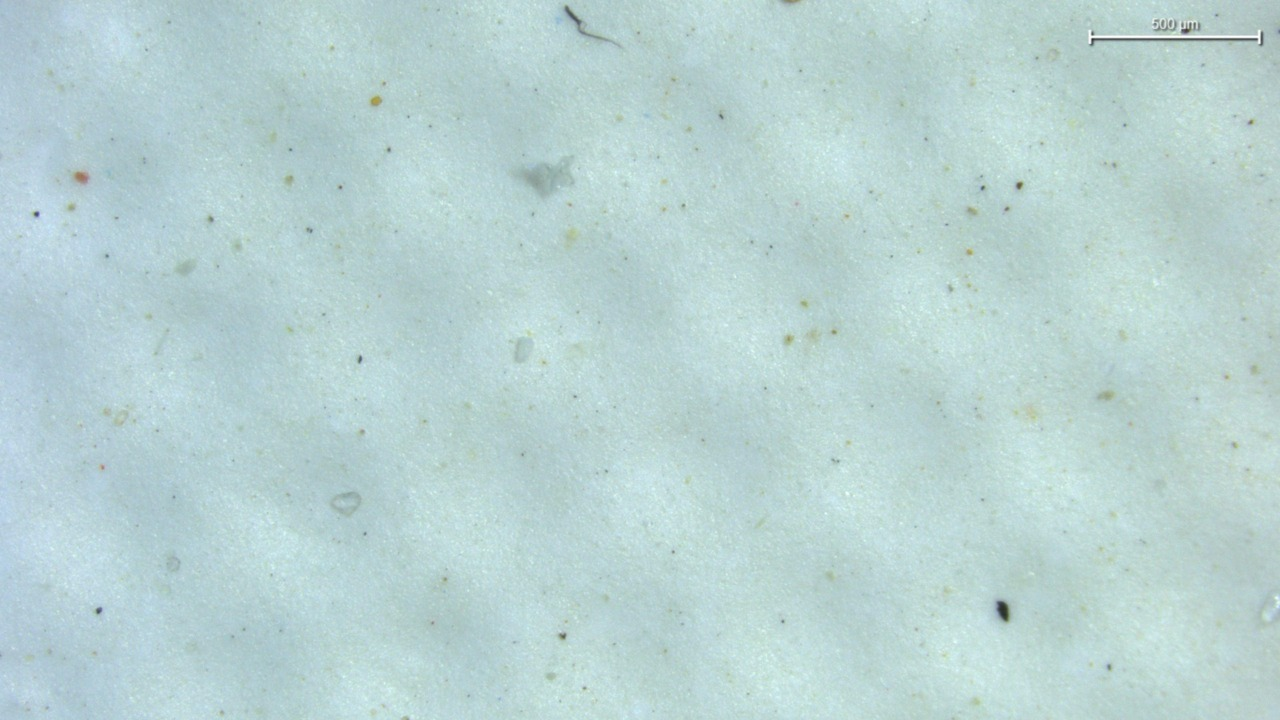microplastic_fragment: (513, 156, 575, 197)
